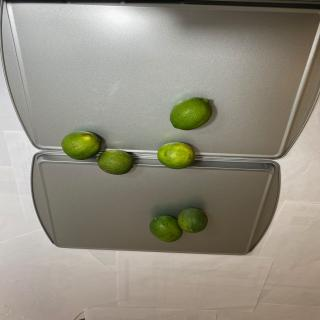Lemon: (169, 97, 213, 130), (61, 131, 101, 160), (157, 142, 195, 169), (97, 149, 134, 175), (149, 215, 183, 243), (177, 208, 208, 234)
